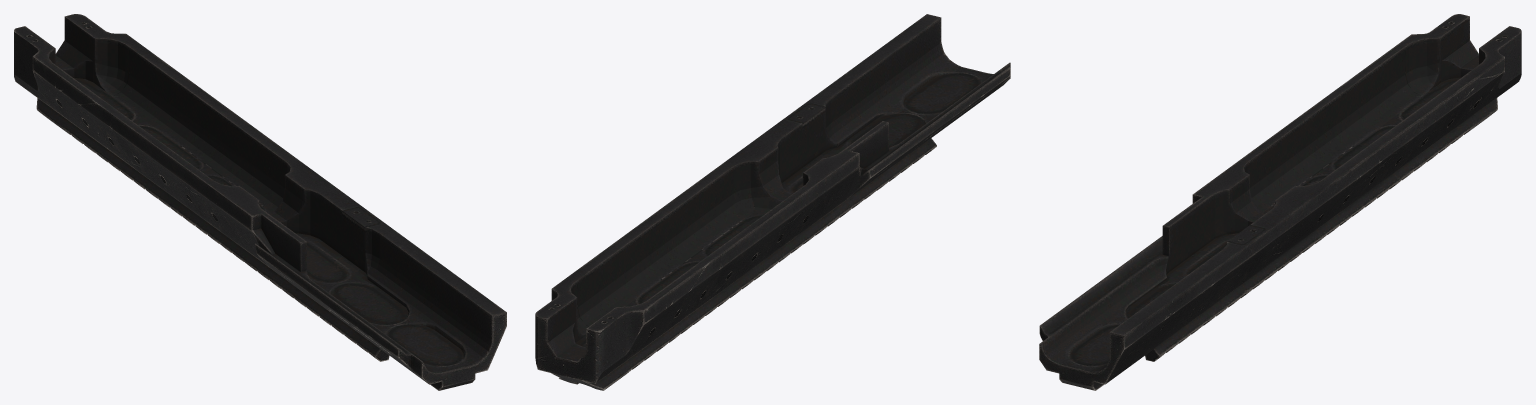
3 views of the same model, side by side, from view 1: azimuth 30°, elevation 25°; view 2: azimuth 150°, elevation 25°; view 3: azimuth 330°, elevation 25° (orthographic).
Parts seen in each view (by area): view 1: TW_5addbfd15acfc40015621bde_PZ_Import; view 2: TW_5addbfd15acfc40015621bde_PZ_Import; view 3: TW_5addbfd15acfc40015621bde_PZ_Import.
Boxes of the visible parts, x1=… form: TW_5addbfd15acfc40015621bde_PZ_Import: x1=14, y1=14, x2=506, y2=390; TW_5addbfd15acfc40015621bde_PZ_Import: x1=535, y1=14, x2=1010, y2=390; TW_5addbfd15acfc40015621bde_PZ_Import: x1=1039, y1=14, x2=1521, y2=390.
Size of the model in its own units: 0.026 by 0.1928 by 0.0201.
Materials: 1 (1 with a texture image).
